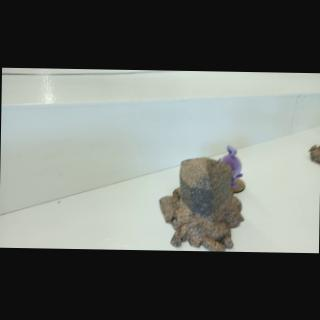teletubby: (218, 145, 242, 186)
